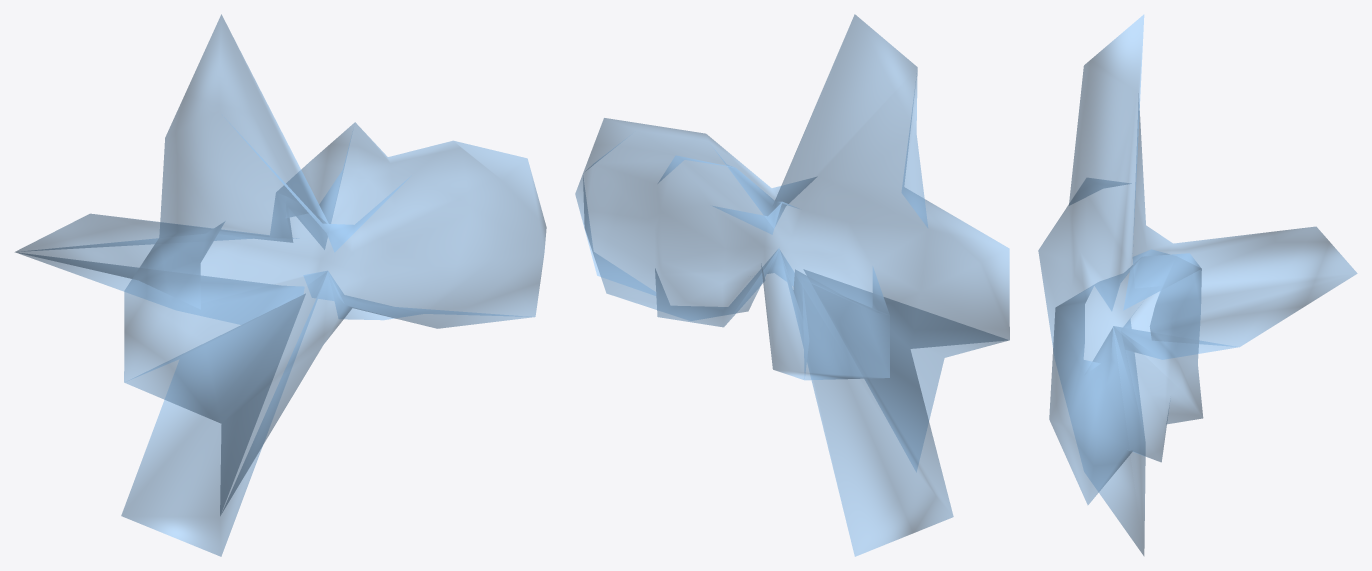
Rendered from ttender_shield.gltf.
The picture shows the model from 3 angles, left to right: view 1: azimuth 30°, elevation 25°; view 2: azimuth 150°, elevation 25°; view 3: azimuth 270°, elevation 25°; orthographic projection.
Parts seen in each view (by area): view 1: ttender.shield; view 2: ttender.shield; view 3: ttender.shield.
Boxes of the visible parts, x1,y1,x2,y2 form: ttender.shield: (15,14,546,556); ttender.shield: (575,14,1009,556); ttender.shield: (1038,14,1357,555).
Bounding box in the file's own units: 28.05 × 33.95 × 18.1.
